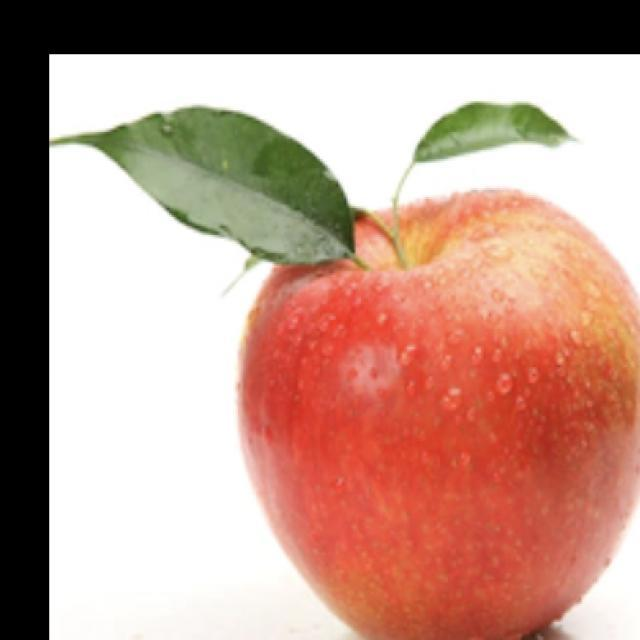Fresh Apple: (236, 182, 640, 640)
